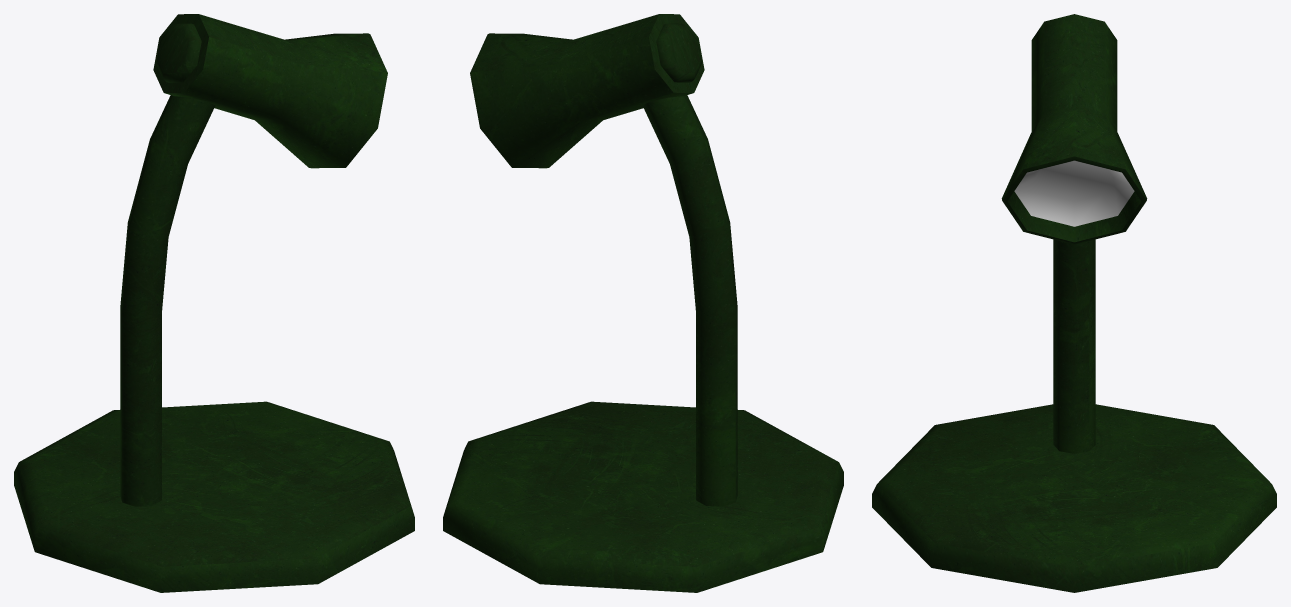
Rendered from desk_lamp.obj.
The picture shows the model from 3 angles, left to right: view 1: azimuth 30°, elevation 25°; view 2: azimuth 150°, elevation 25°; view 3: azimuth 270°, elevation 25°; orthographic projection. The views are drawn at different scales.
Visible parts, largest first — view 1: desk_lamp; view 2: desk_lamp; view 3: desk_lamp.
Boxes of the visible parts, <box> form: desk_lamp: <box>14,14,414,592</box>; desk_lamp: <box>443,14,843,592</box>; desk_lamp: <box>872,14,1276,592</box>.
Size of the model in its own units: 0.28 by 0.3709 by 0.28.
Materials: 2 (1 with a texture image).
